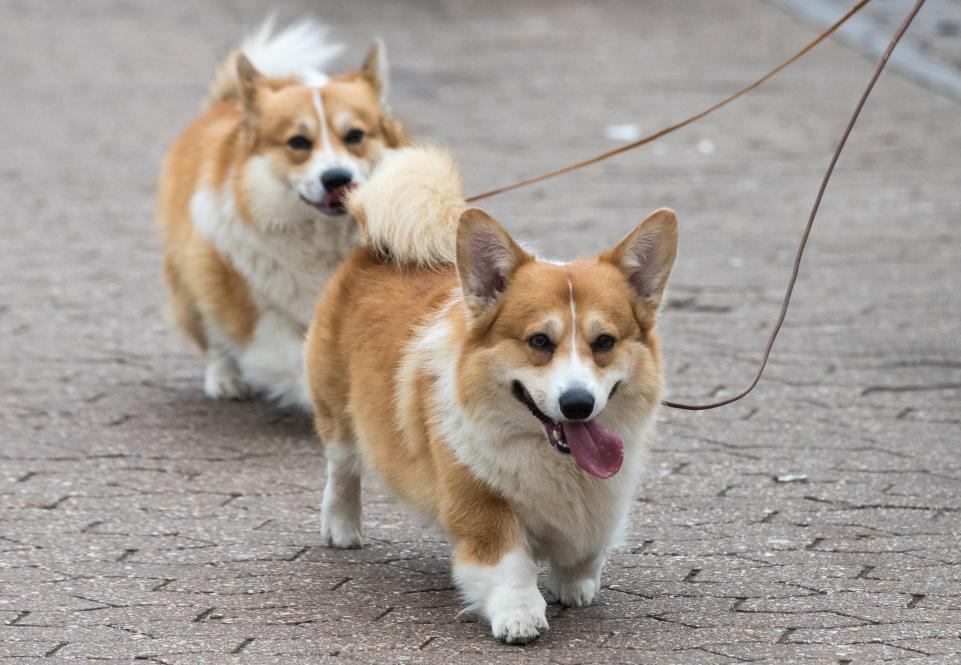dog: (304, 206, 674, 633), (155, 56, 402, 396)
